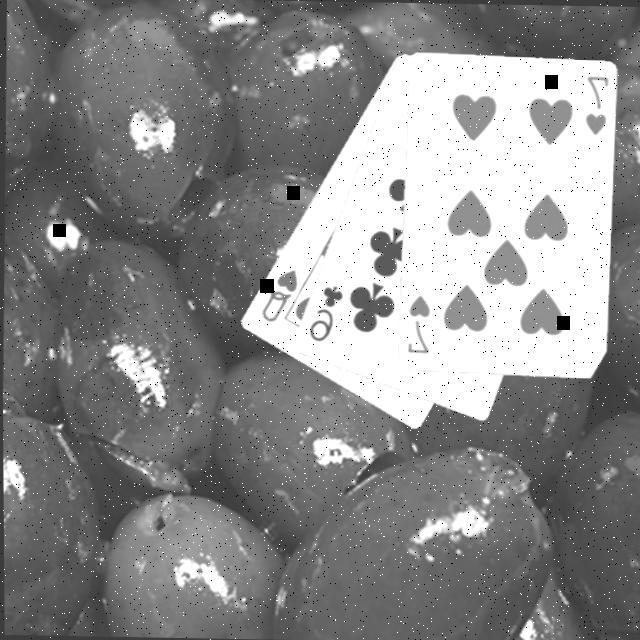7H: (403, 290, 432, 355), (582, 71, 611, 136)
9C: (305, 279, 346, 344)
QH: (257, 263, 301, 324)
